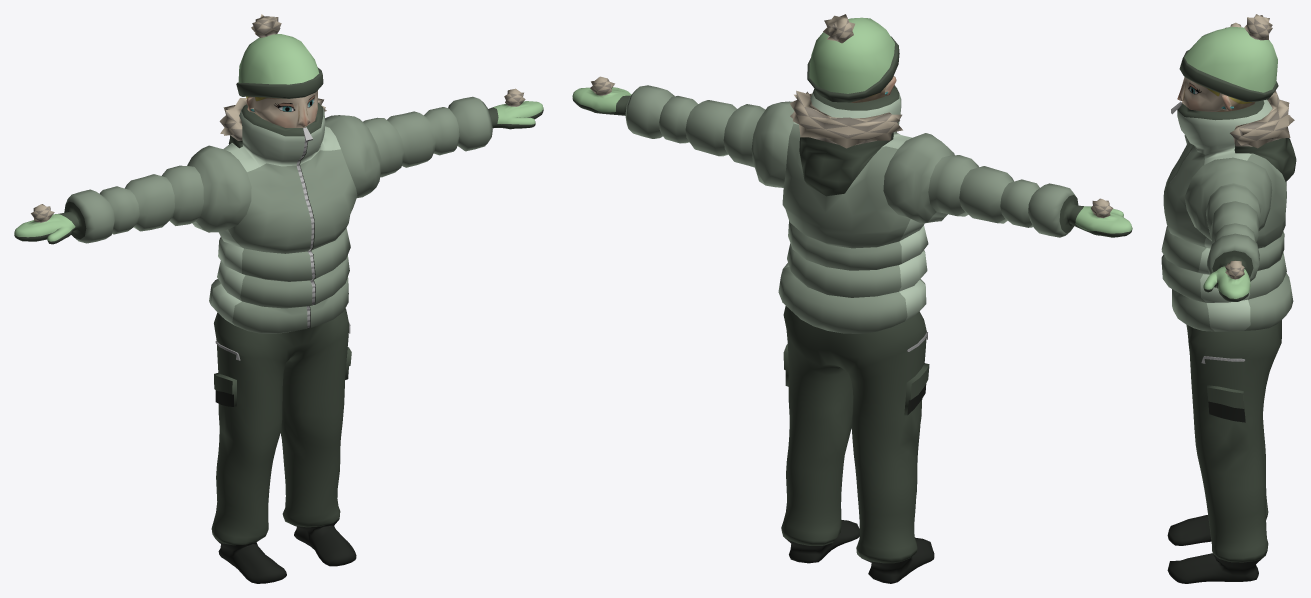
File: Kayla.fbx
3 views of the same model, side by side, from view 1: azimuth 30°, elevation 25°; view 2: azimuth 150°, elevation 25°; view 3: azimuth 270°, elevation 25° (orthographic). The views are drawn at different scales.
Parts seen in each view (by area): view 1: Cube.001, Cube.002; view 2: Cube.001; view 3: Cube.001, Cube.002.
Part boxes in pixels (x1=…): Cube.001: x1=14, y1=14, x2=543, y2=583; Cube.002: x1=246, y1=90, x2=317, y2=127; Cube.001: x1=572, y1=14, x2=1132, y2=583; Cube.001: x1=1161, y1=14, x2=1296, y2=583; Cube.002: x1=1177, y1=77, x2=1255, y2=111.
Bounding box in the file's own units: 883 × 843 × 190.
Materials: 2 (2 with a texture image).
